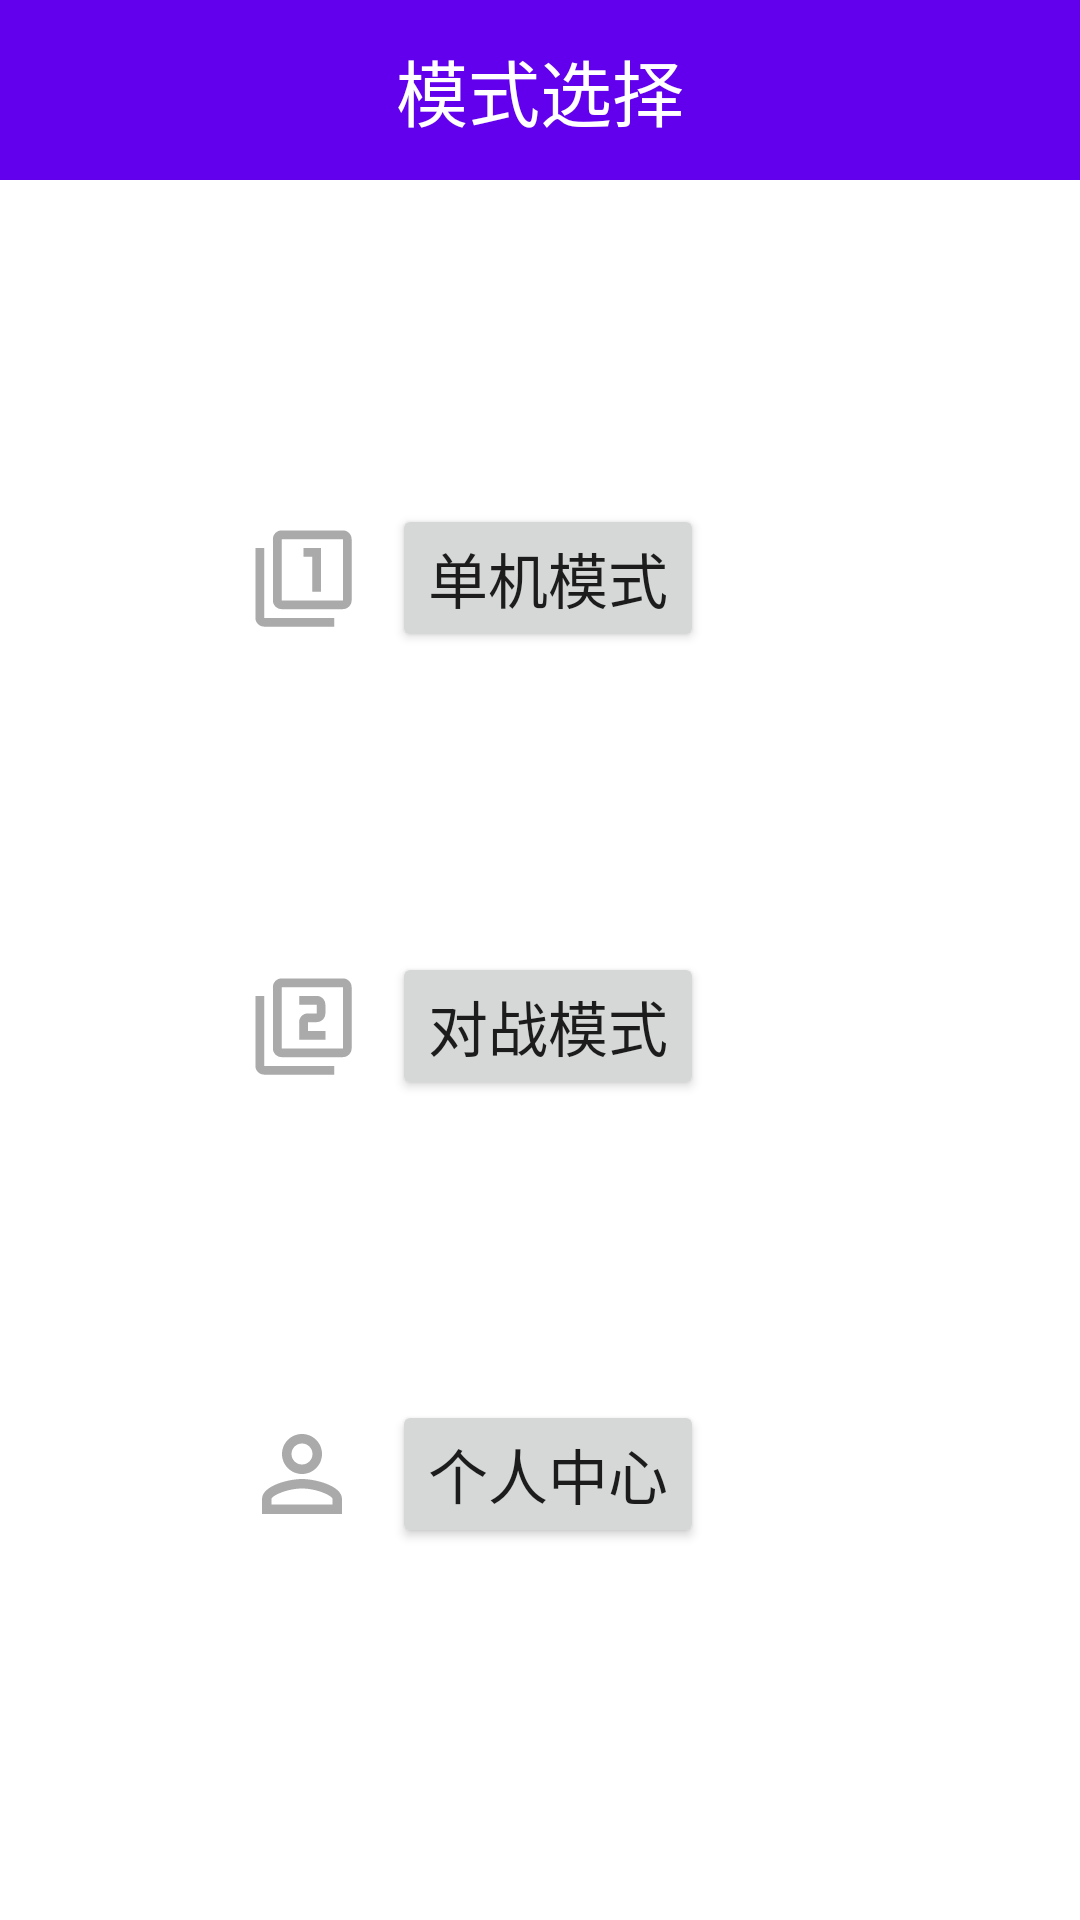

Where icons sit on this 1080 x 1920 app screen, as (x1, y1, x2, y2):
filter: (255, 530, 352, 627), (255, 978, 352, 1075)
person: (262, 1434, 342, 1514)
